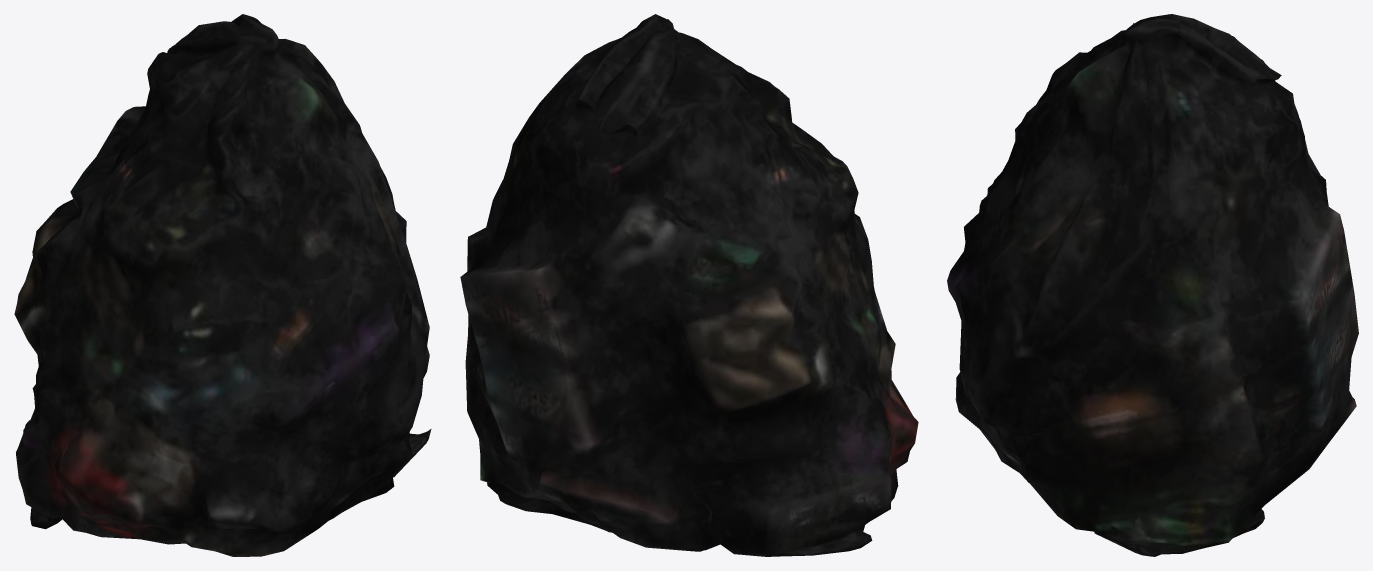
Rendered from trashbag.e9798b8e39.glb.
3 views of the same model, side by side, from view 1: azimuth 30°, elevation 25°; view 2: azimuth 150°, elevation 25°; view 3: azimuth 270°, elevation 25° (orthographic). The views are drawn at different scales.
Visible parts, largest first — view 1: trashbag; view 2: trashbag; view 3: trashbag.
Boxes of the visible parts, box(x1,y1,x2,y2) form: trashbag: box(14, 14, 431, 556); trashbag: box(460, 14, 918, 556); trashbag: box(947, 14, 1358, 556).
Bounding box in the file's own units: 0.5281 × 0.575 × 0.4629.
1 material, 1 textured.
